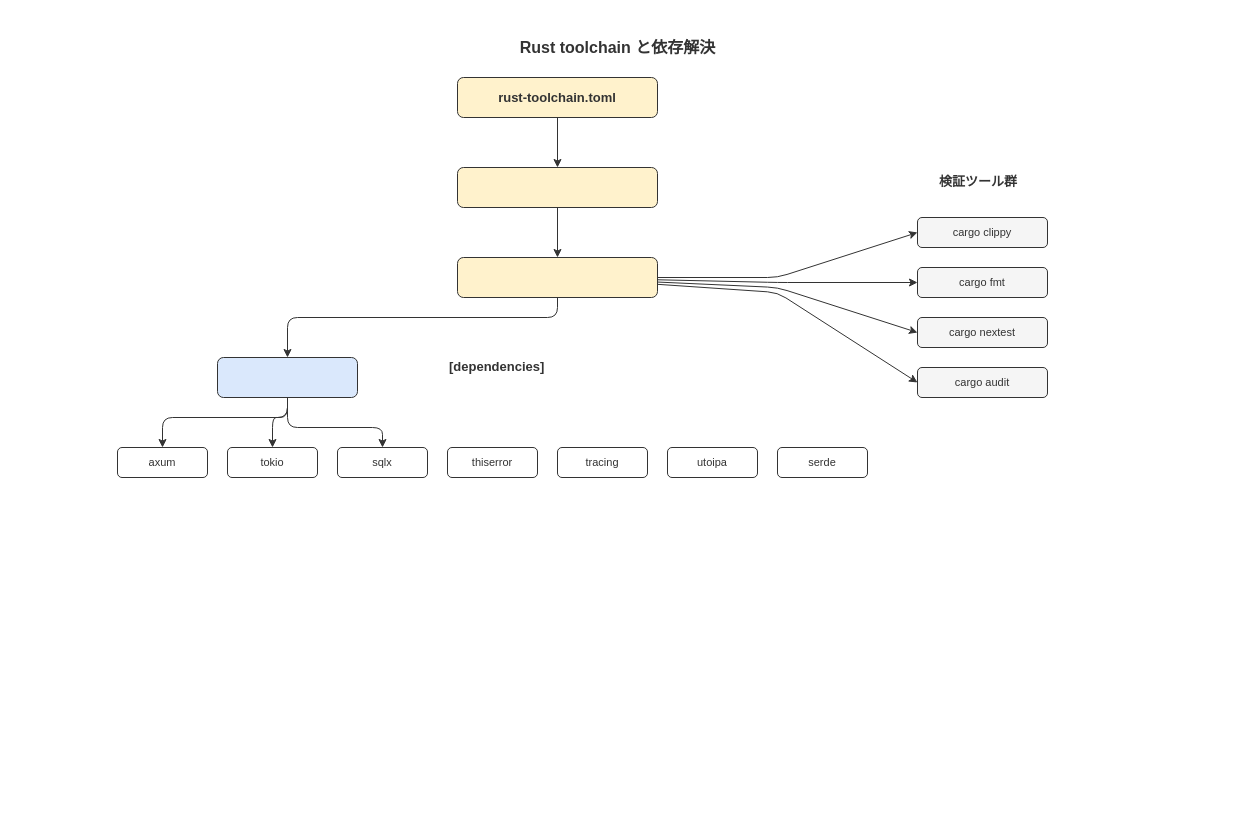
This 1234x834 diagram has some shape labels left out. The shapes that lost their labels are listed below. From the top down, each one's box as (x1, y1, x2, y2) in pixels, then its label:
(456, 166, 658, 208): rustup
(456, 256, 658, 298): stable channel
(216, 356, 358, 398): Cargo.toml
